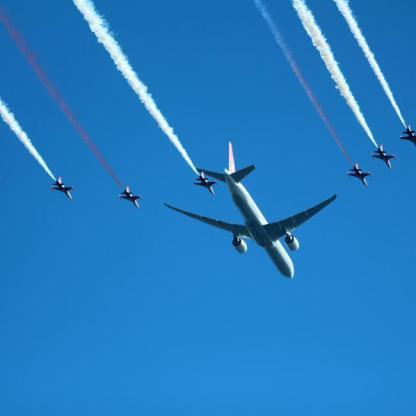CIV_Plane: (145, 140, 338, 282)
